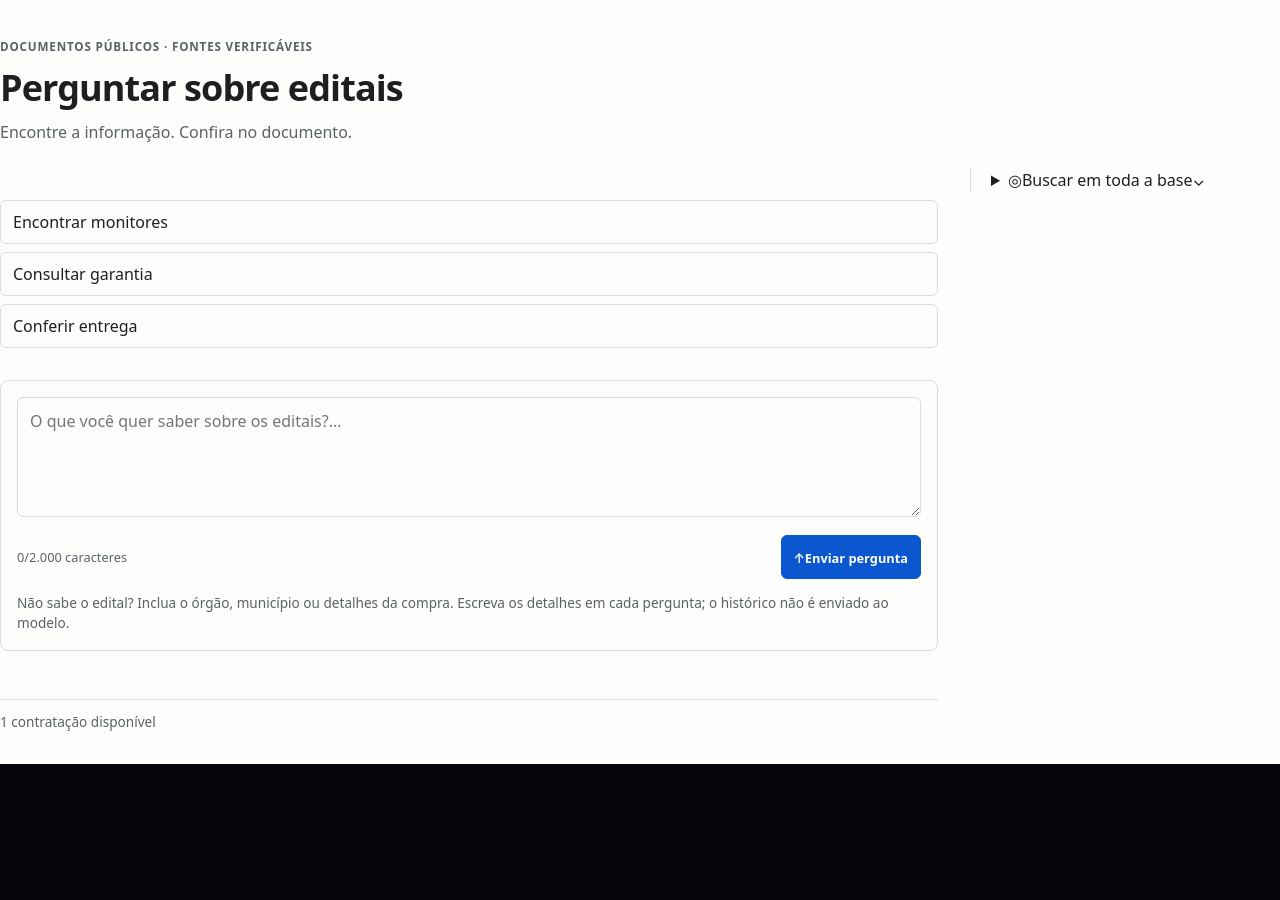
Test case: renderiza passagens como texto e recusa links externos
The width and height of the screenshot is (1280, 900).
Expected: the text "1 contratação disponível" is shown, [0, 712, 156, 731]
Type "Qual garantia?" into the text box named "Sua pergunta". click: (469, 457)
box: [17, 397, 921, 517]
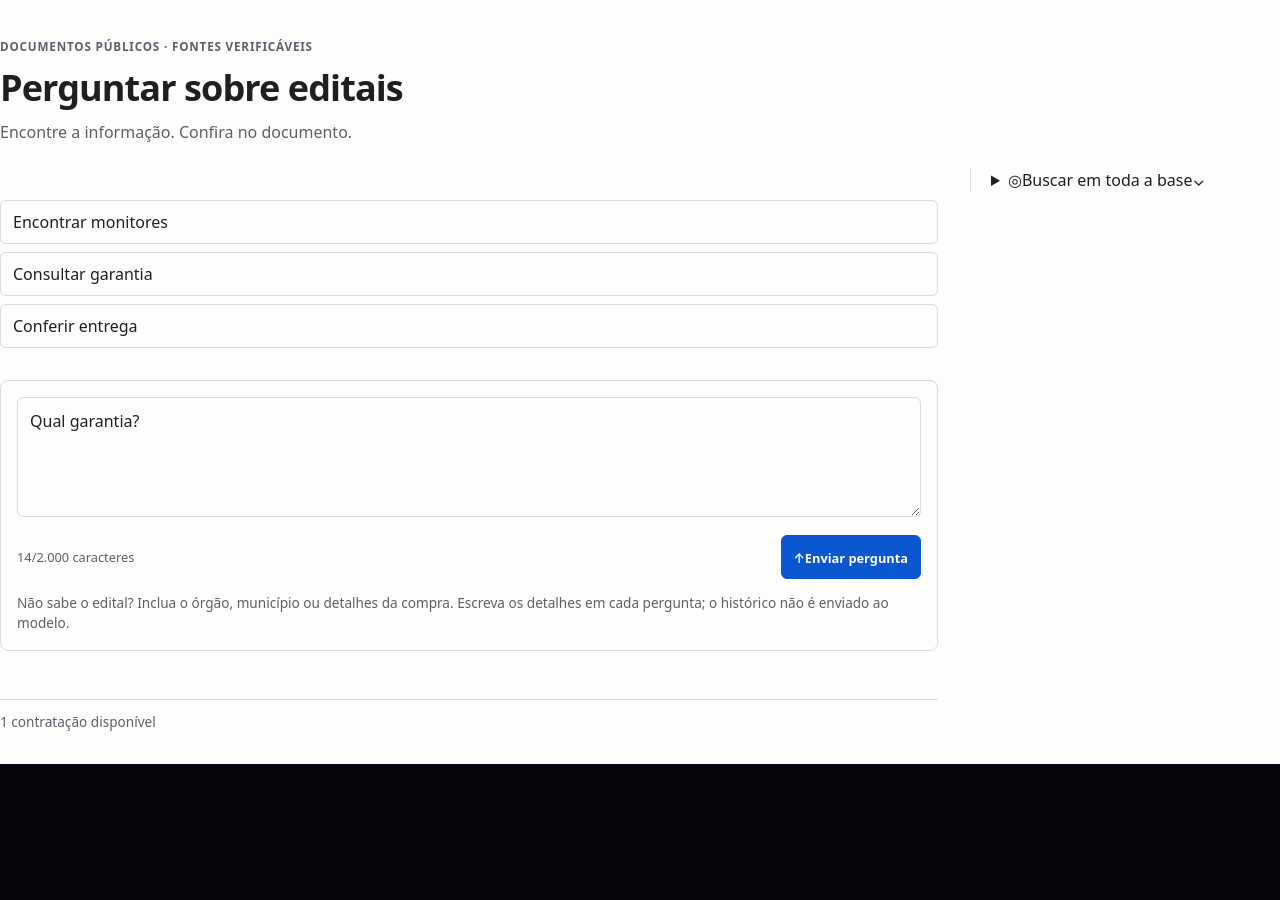
Click the button "↑Enviar pergunta". click: click(851, 557)
box: [780, 535, 921, 579]
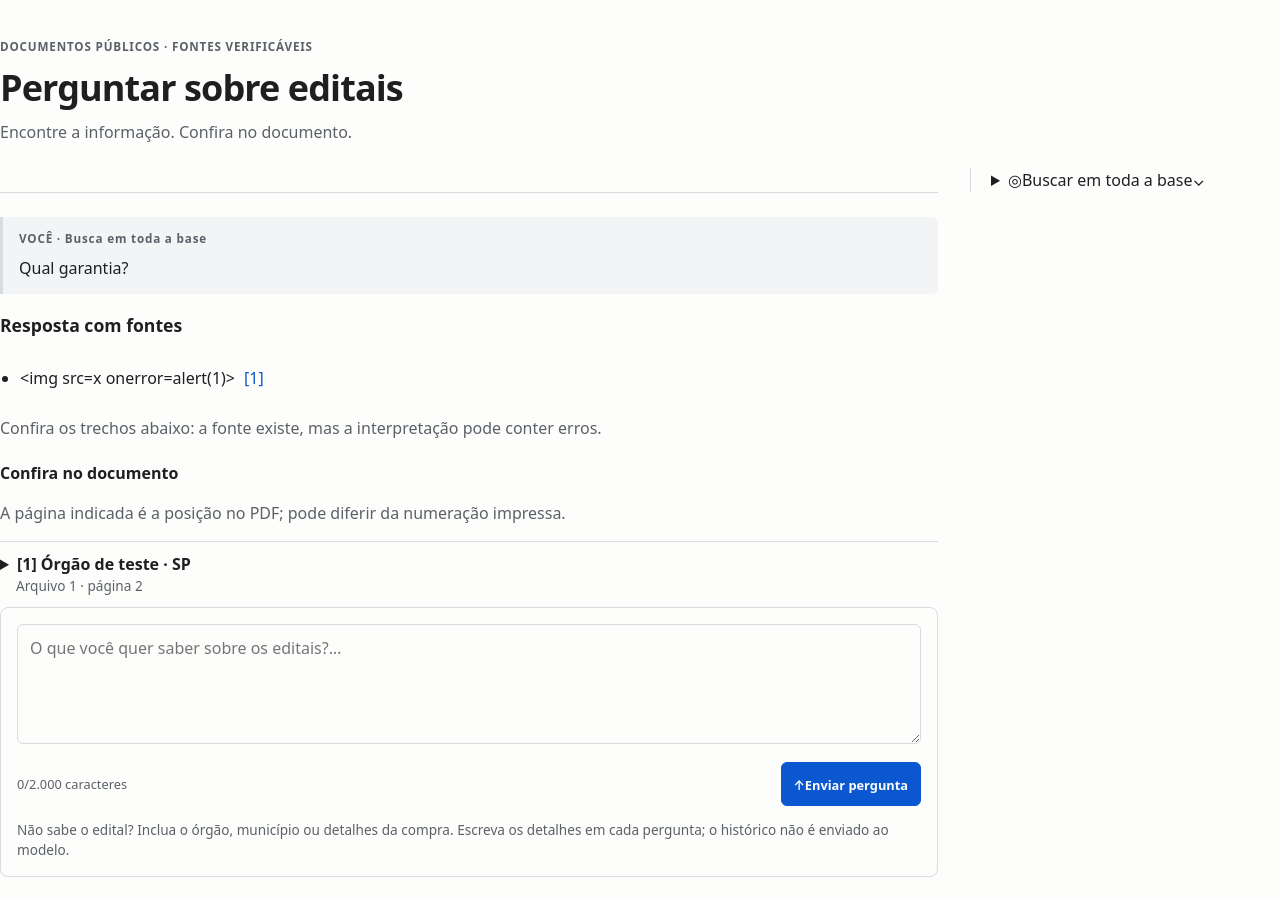
Now the heading "Resposta com fontes" is shown, box [0, 313, 182, 337]
Now the number of list items "<img src=x onerror=alert(1)>" is 2
